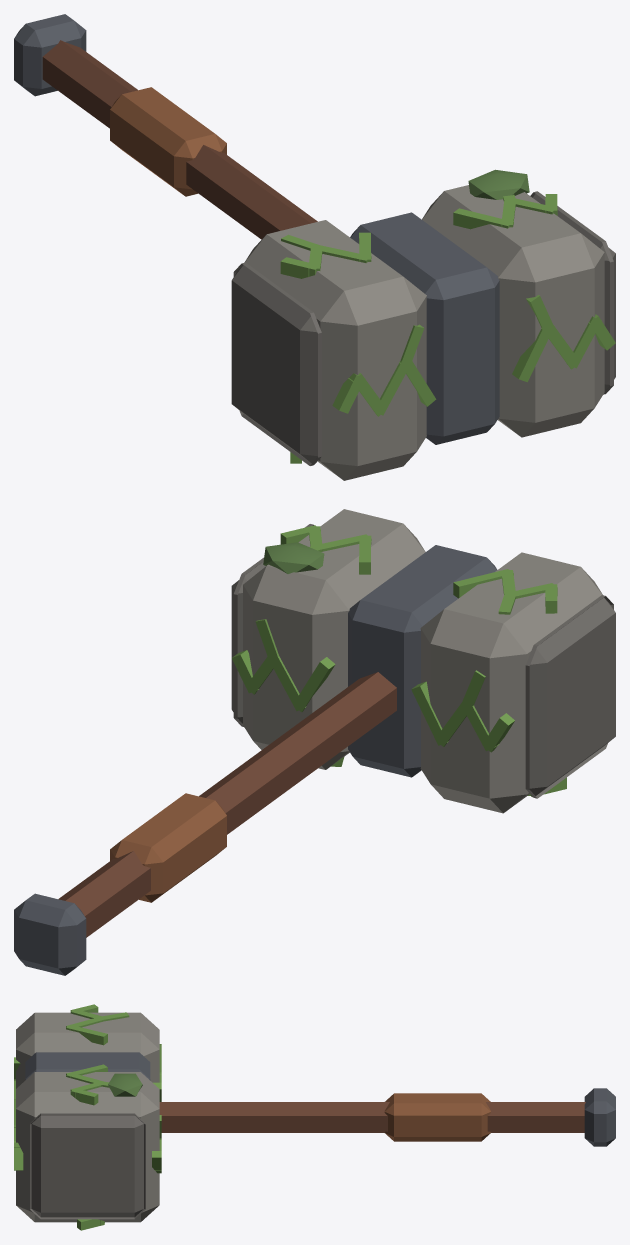
The model's file is brann_weapon.fbx.
The picture shows the model from 3 angles, top to bottom: view 1: azimuth 30°, elevation 25°; view 2: azimuth 150°, elevation 25°; view 3: azimuth 270°, elevation 25°; orthographic projection. The views are drawn at different scales.
Visible parts, largest first — view 1: brann_weapon; view 2: brann_weapon; view 3: brann_weapon.
Part boxes in pixels (left/top/right/bottom): brann_weapon: left=14, top=14, right=615, bottom=480; brann_weapon: left=14, top=509, right=615, bottom=975; brann_weapon: left=14, top=1004, right=615, bottom=1230.
Size of the model in its own units: 0.8 by 0.501 by 1.93.
